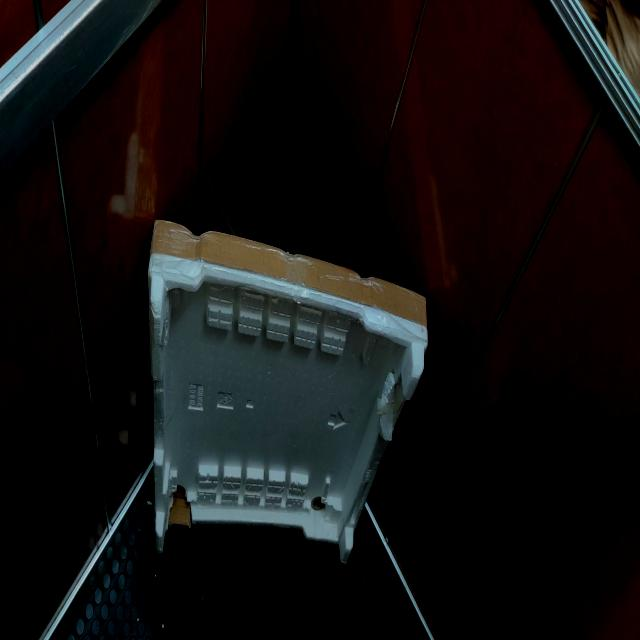Corrugated carton: (149, 222, 427, 327), (169, 486, 191, 530)
Styrofoam piece: (148, 254, 428, 564)
